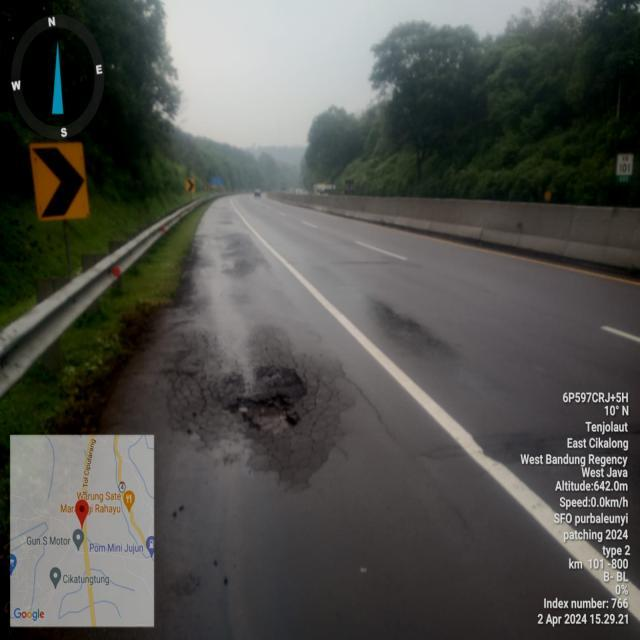Buraco: (219, 391, 304, 438), (254, 368, 286, 387)
